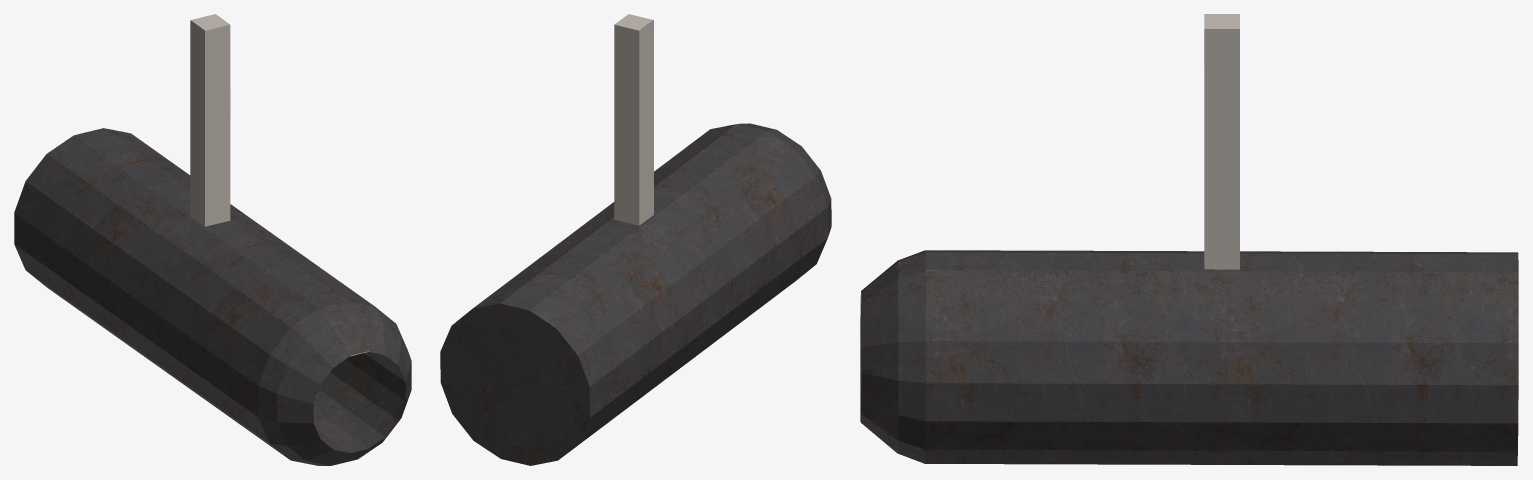
The model's file is MissileLauncherMaya.fbx.
The picture shows the model from 3 angles, left to right: view 1: azimuth 30°, elevation 25°; view 2: azimuth 150°, elevation 25°; view 3: azimuth 270°, elevation 25°; orthographic projection. The views are drawn at different scales.
Parts seen in each view (by area): view 1: MissileLauncher; view 2: MissileLauncher; view 3: MissileLauncher.
Boxes of the visible parts, x1,y1,x2,y2 form: MissileLauncher: (14, 14, 411, 465); MissileLauncher: (440, 14, 831, 465); MissileLauncher: (860, 14, 1518, 465).
Bounding box in the file's own units: 12.06 × 26.8 × 36.83.
